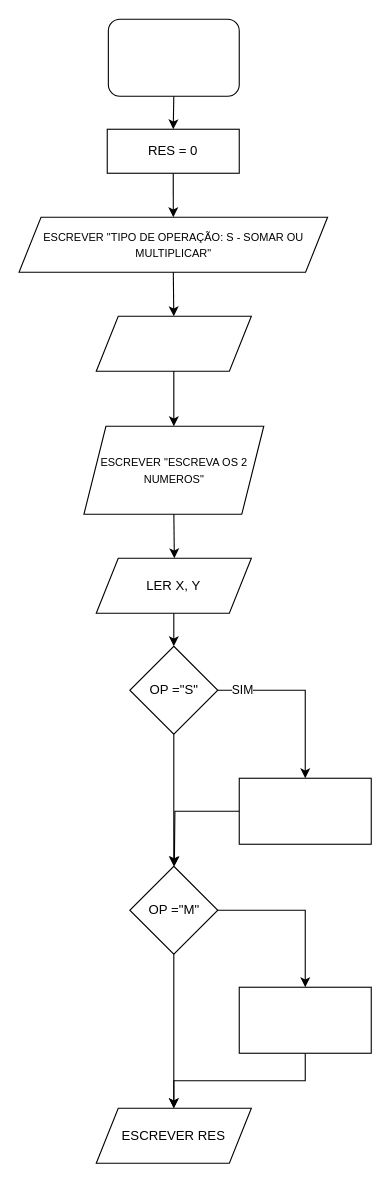
Image size: 392x1183. Some labels were removed from this diagram. Each missing label, with the centre of its shape:
INICIO: (x=173, y=57)
LER OP: (x=173, y=343)
RES = X * Y: (x=304, y=1019)
RES = X + Y: (x=304, y=810)
